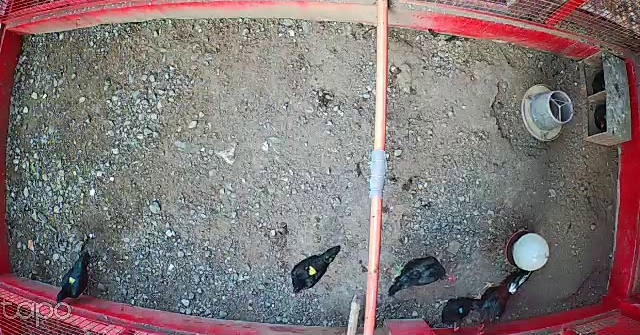Chicken: (382, 250, 465, 301), (288, 243, 339, 297), (53, 250, 102, 305), (437, 289, 487, 330)
Rooster: (469, 258, 539, 335)
Saddle_Color_Yellow: (307, 265, 318, 278)
